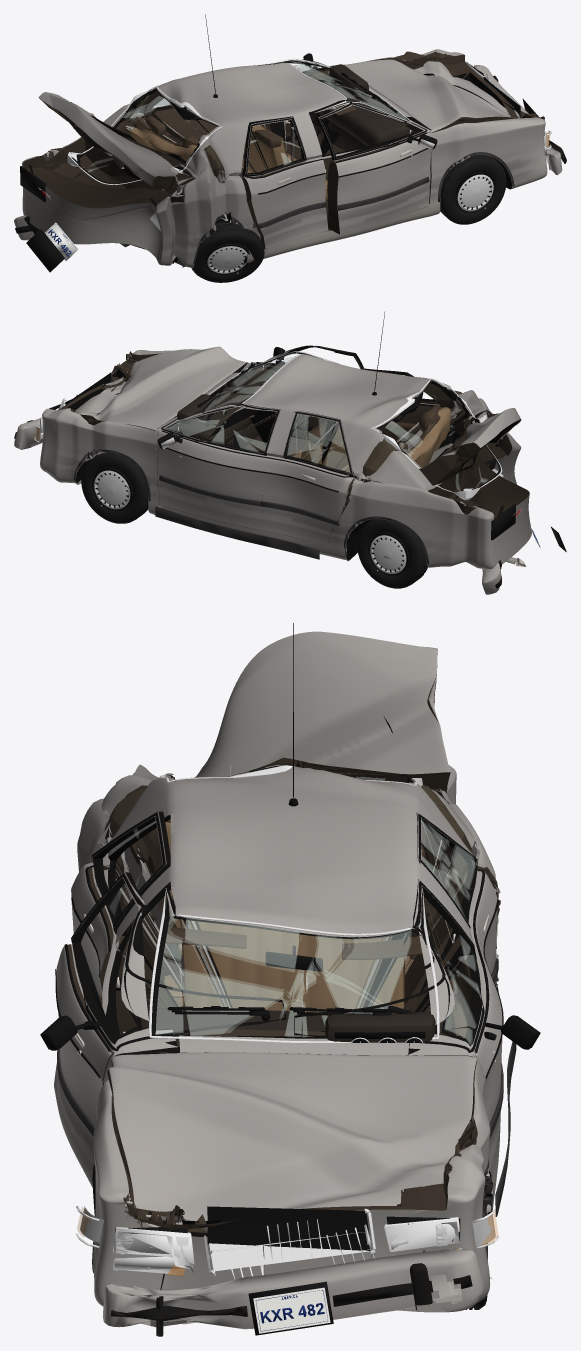
The model's file is sedan87_rear_corner_R_d2_lod1.glb.
3 renders of one model, top to bottom at view 1: azimuth 30°, elevation 25°; view 2: azimuth 150°, elevation 25°; view 3: azimuth 270°, elevation 25°, orthographic. The views are drawn at different scales.
Visible parts, largest first — view 1: Body, Door_FR, Interior, Hood, Door_RR, Trunk, Wheel_FR_mesh, Glass, Wheel_RR_mesh, Ends, Trim_FR, Trim_RR (+4 smaller); view 2: Body, Door_FL, Hood, Interior, Door_RL, Wheel_FL_mesh, Wheel_RL_mesh, Glass, Trunk, Trim, Glass_RL, Trim_FL (+8 smaller); view 3: Body, Hood, Trunk, Interior, Glass, Ends, Bumper_F, Door_FR, Door_FL, Door_RR, Trim_FR, Trim_FL (+6 smaller).
Boxes of the visible parts, x1,y1,x2,y2 form: Body: (22, 49, 547, 268); Door_FR: (316, 103, 431, 234); Interior: (130, 64, 413, 200); Hood: (344, 59, 516, 132); Door_RR: (242, 117, 328, 249); Trunk: (38, 92, 195, 192); Wheel_FR_mesh: (440, 154, 506, 224); Glass: (67, 58, 412, 184); Wheel_RR_mesh: (191, 221, 264, 282); Ends: (20, 61, 551, 272); Trim_FR: (319, 96, 437, 210); Trim_RR: (245, 118, 326, 228); Body: (40, 350, 531, 569); Door_FL: (157, 404, 280, 529); Hood: (75, 346, 247, 431); Interior: (175, 370, 451, 471); Door_RL: (259, 411, 355, 545); Wheel_FL_mesh: (81, 452, 148, 523); Wheel_RL_mesh: (357, 519, 427, 588); Glass: (176, 351, 502, 500); Trunk: (419, 408, 521, 485); Trim: (73, 312, 429, 563); Glass_RL: (287, 414, 350, 473); Trim_FL: (157, 390, 279, 506); Body: (77, 765, 500, 1327); Hood: (107, 1052, 477, 1236); Trunk: (132, 631, 450, 789); Interior: (136, 819, 452, 1049); Glass: (149, 765, 439, 1042); Ends: (76, 1205, 499, 1335); Bumper_F: (102, 1249, 483, 1336); Door_FR: (54, 872, 178, 1187); Door_FL: (409, 879, 502, 1190); Door_RR: (71, 811, 170, 1035); Trim_FR: (40, 873, 286, 1136); Trim_FL: (294, 881, 540, 1140).
Bounding box in the file's own units: 4.91 × 2.18 × 2.1.
33 materials, 5 textured.
